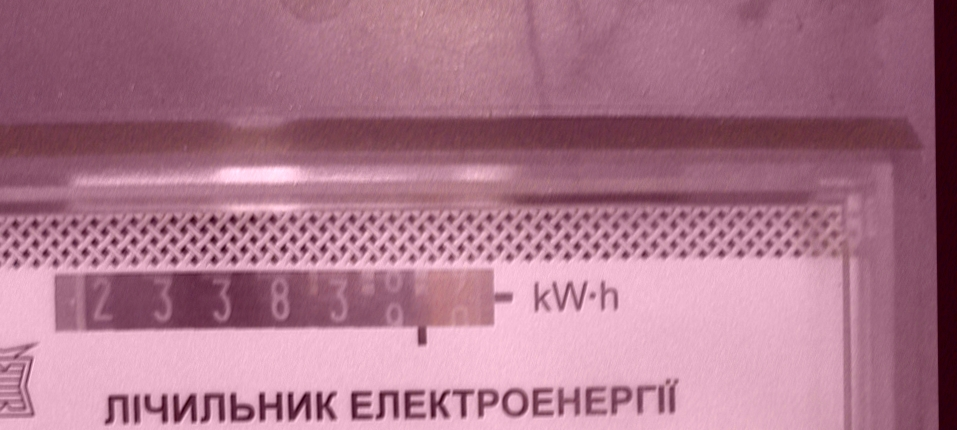0: (451, 304, 473, 330)
2: (92, 277, 117, 324)
3: (208, 276, 238, 325), (150, 275, 179, 325), (328, 278, 352, 324)
8: (268, 277, 295, 323), (384, 269, 407, 297)
9: (385, 301, 407, 331), (450, 267, 472, 297)
screen: (44, 259, 518, 354)
